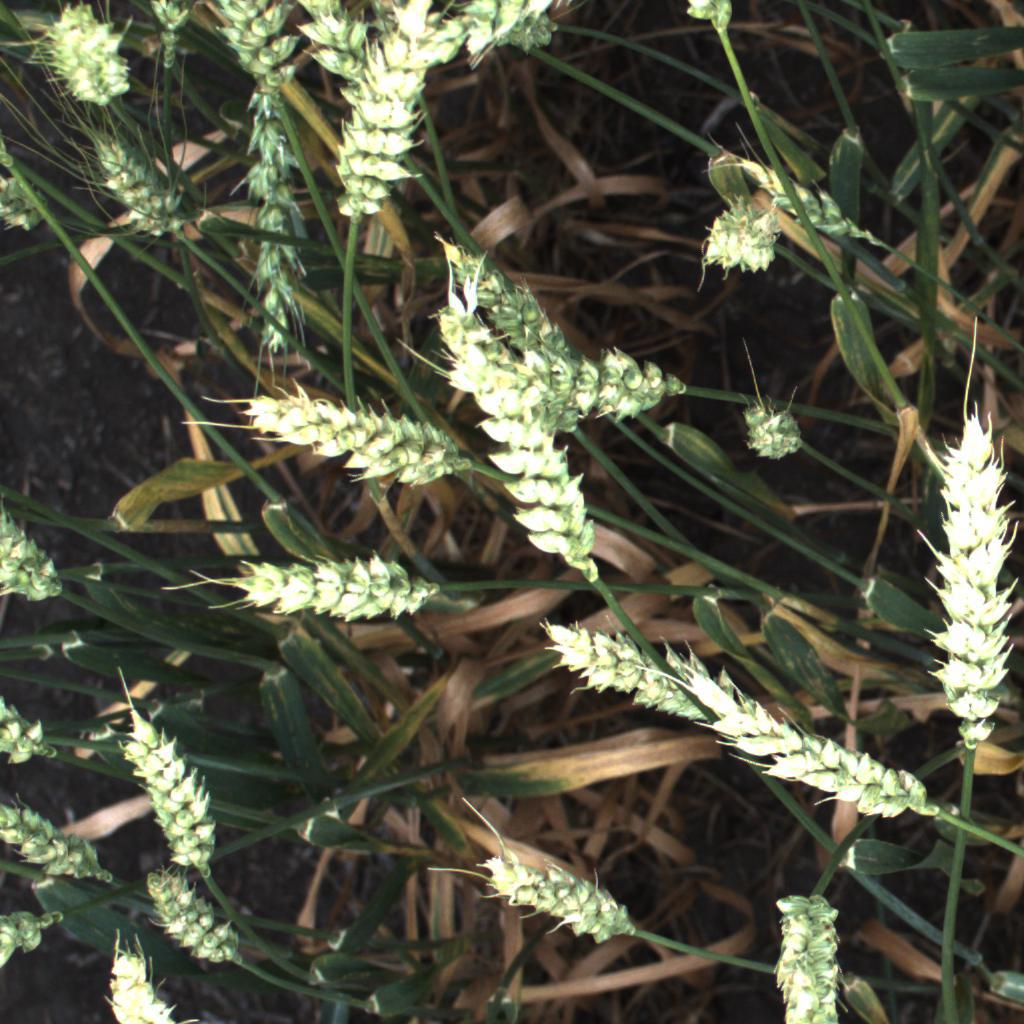0-0: (651, 625, 945, 828), (434, 306, 612, 592), (912, 390, 1024, 760), (521, 604, 737, 740), (423, 221, 585, 390), (224, 70, 317, 362), (239, 367, 464, 481), (101, 704, 237, 884), (469, 332, 696, 438), (327, 0, 438, 216), (212, 540, 451, 636), (709, 138, 887, 251), (67, 117, 200, 247), (13, 0, 150, 116), (761, 872, 857, 1024), (134, 855, 258, 972), (494, 847, 628, 944), (408, 0, 561, 75), (0, 794, 116, 891), (208, 0, 309, 106), (80, 939, 200, 1024), (690, 194, 795, 287), (285, 2, 379, 95), (0, 493, 72, 614), (727, 387, 817, 470), (0, 900, 72, 975), (0, 696, 64, 776), (139, 0, 199, 85), (0, 161, 46, 236), (668, 0, 746, 36)
